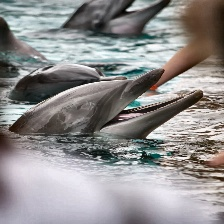dolphin: (6, 63, 179, 136), (147, 0, 224, 93), (101, 88, 204, 140), (46, 0, 171, 35)
